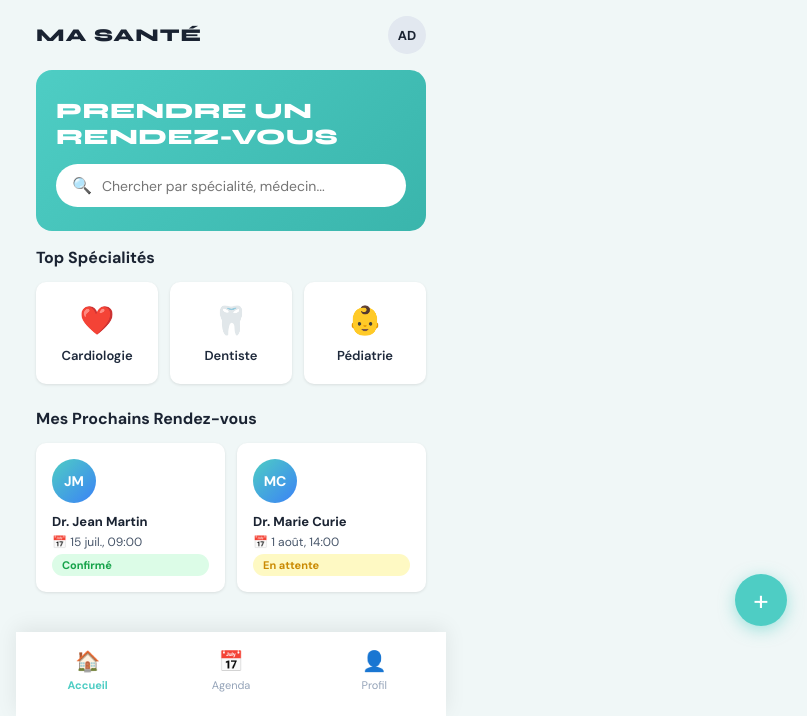
it: navigates to profile tab
Expected: the text "Dr. Jean Martin" is shown, x1=52 y1=513 x2=148 y2=530
Click the text "Profil".
click(374, 685)  # box x1=362 y1=678 x2=387 y2=692
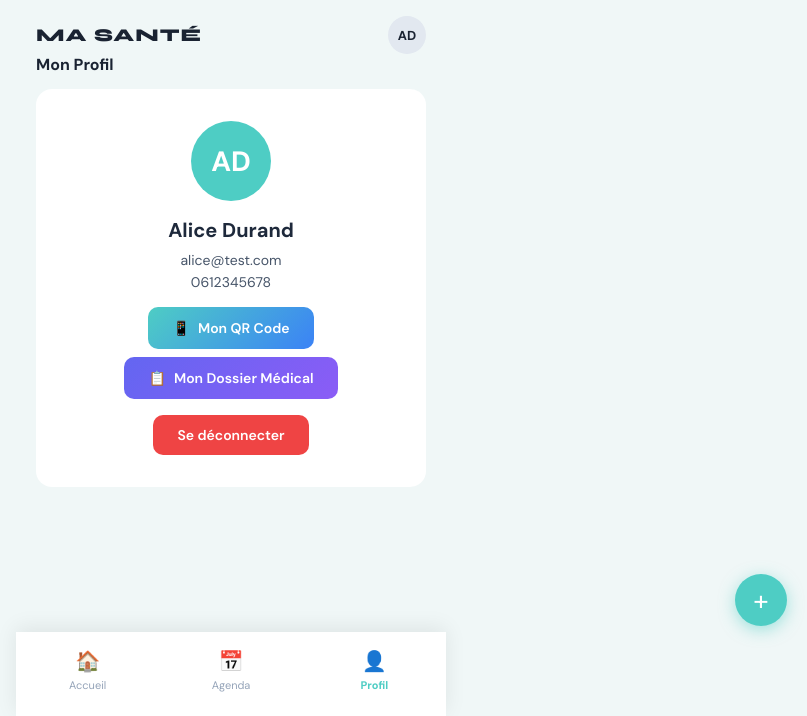
Now the heading "Mon Profil" is shown, box x1=36 y1=54 x2=114 y2=75
Now the text "alice@test.com" is shown, box x1=180 y1=251 x2=282 y2=269
Now the text "0612345678" is shown, box x1=191 y1=273 x2=271 y2=291
